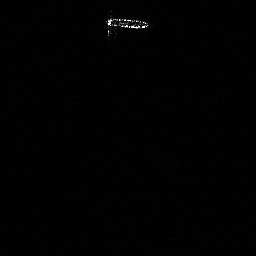ship: (104, 14, 152, 39)
